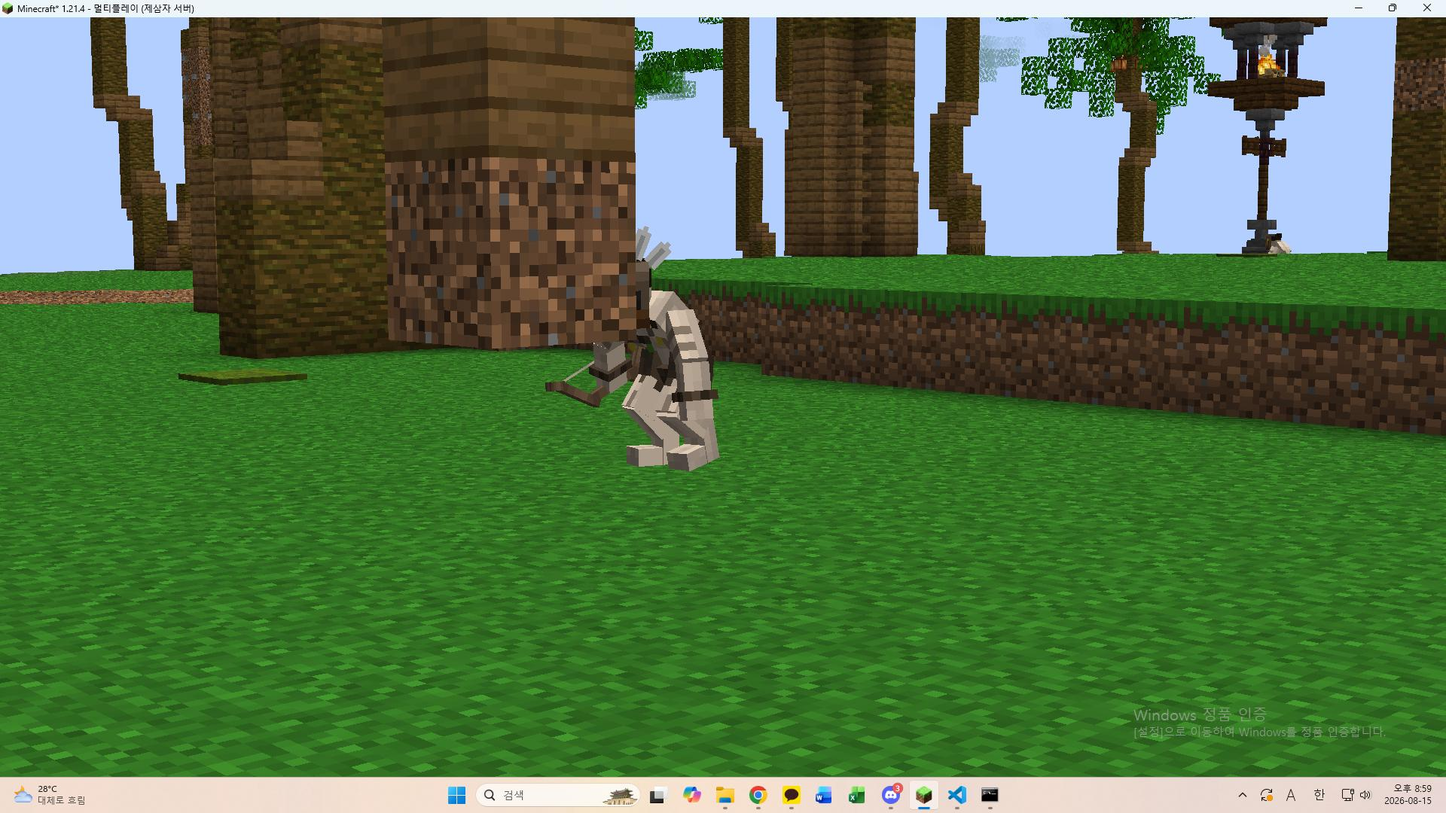bow_indian: (568, 246, 718, 470)
